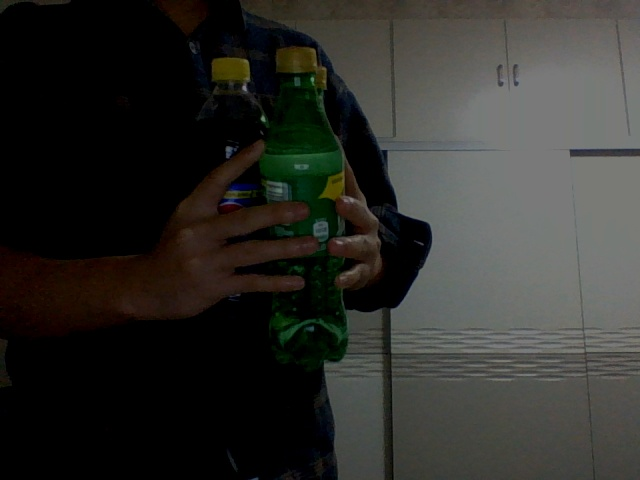Cola: (201, 55, 268, 301)
Sprite: (265, 44, 350, 364)
